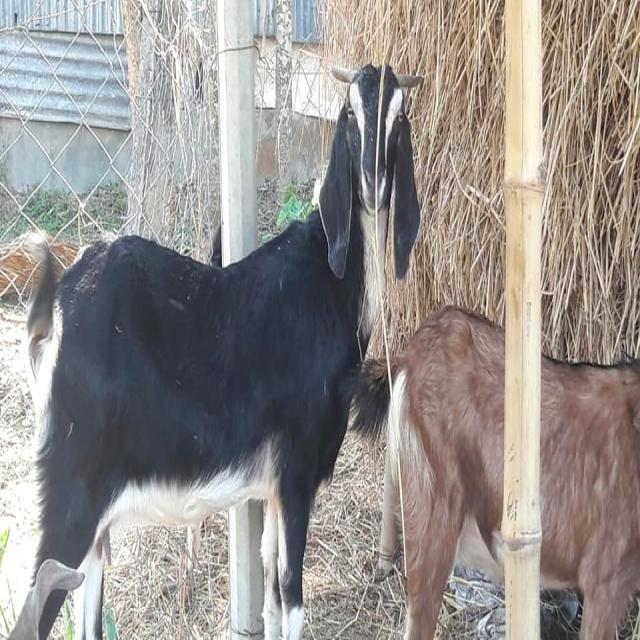Goat: (7, 59, 423, 638), (349, 302, 639, 638)
